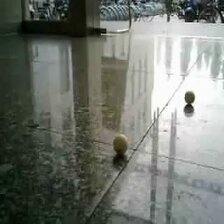w: (113, 134, 128, 155), (184, 90, 196, 105)
